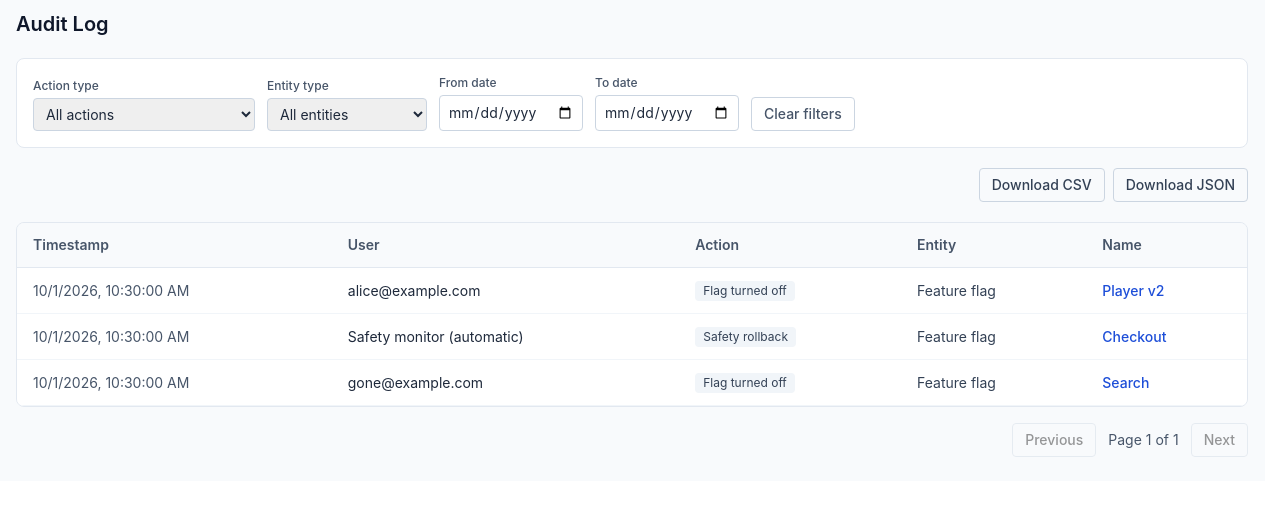
Download CSV and Download JSON (#221) › shows an error and saves nothing when csv rows and the count differ
Check: the row with test id "audit-log-row-log-1" is shown, box [17,268,1247,314]
Click the button with test id "audit-download-csv": (1042, 185) [979,168,1105,202]
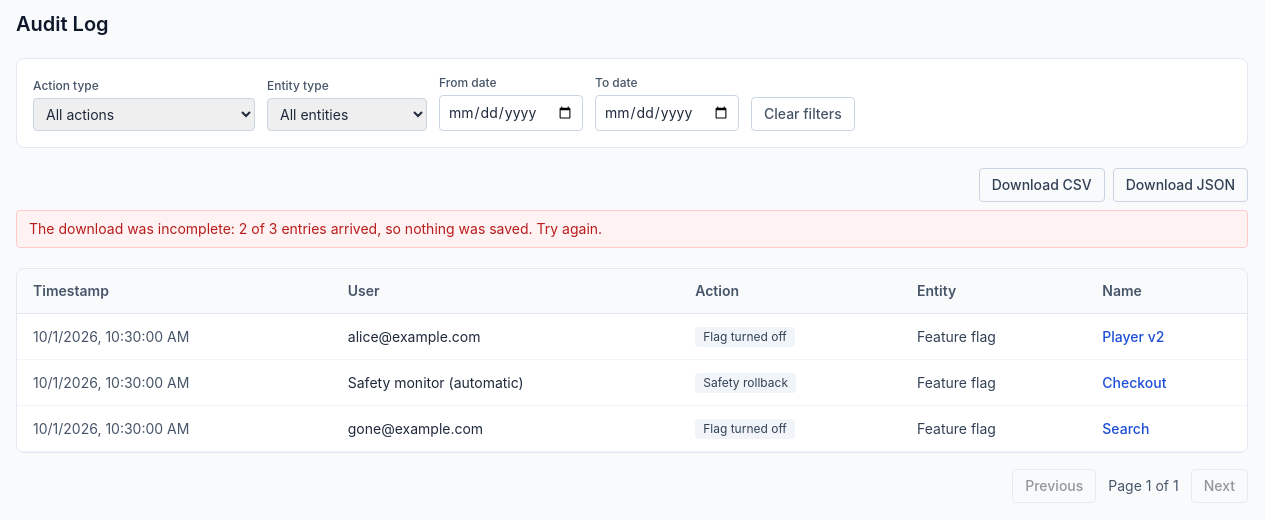
Check: the message shows "The download was incomplete: 2 of 3 entries arrived", box [29,220,602,237]
